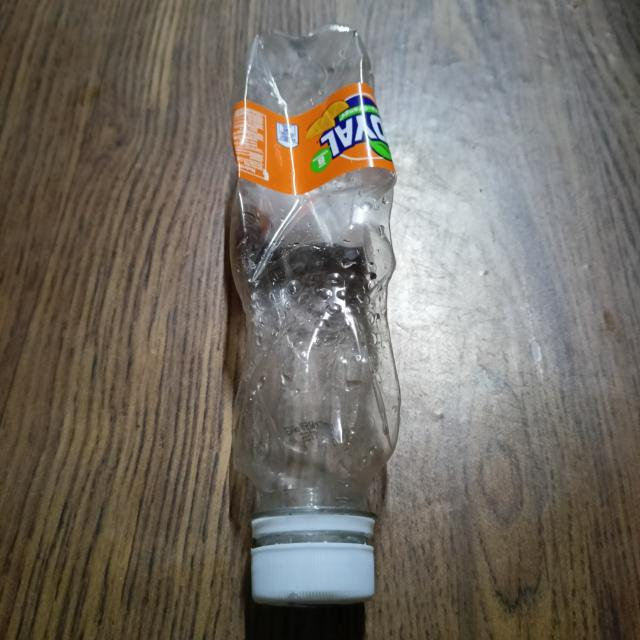Bottle: (224, 23, 402, 614)
